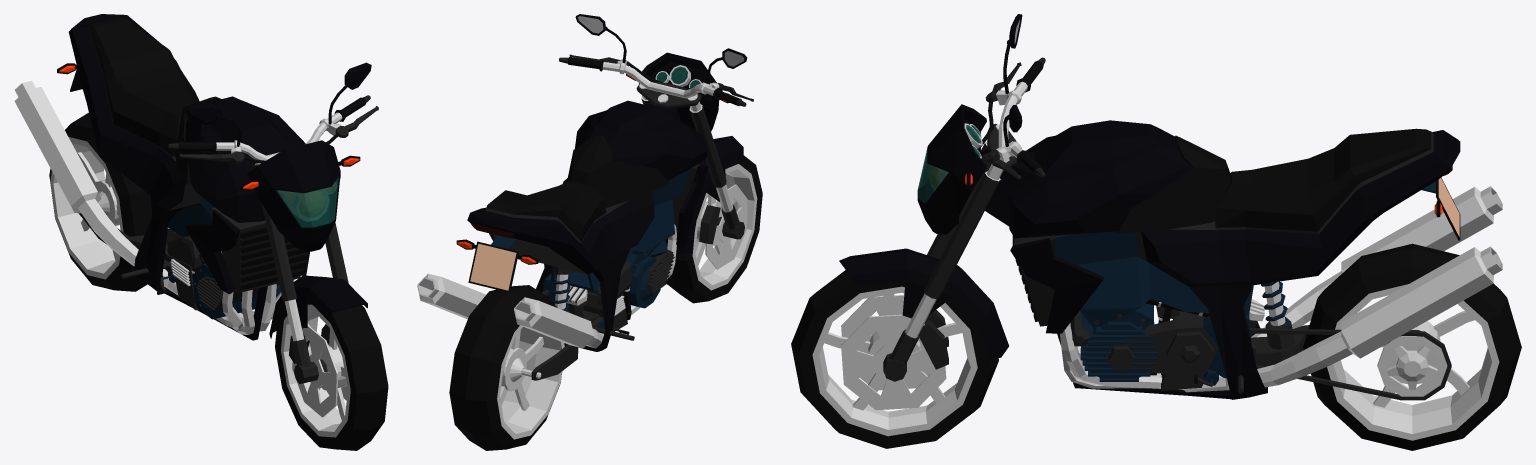
File: Motorcycle_06.FBX
3 renders of one model, left to right at view 1: azimuth 30°, elevation 25°; view 2: azimuth 150°, elevation 25°; view 3: azimuth 270°, elevation 25°, orthographic. The views are drawn at different scales.
Visible parts, largest first — view 1: Motorcycle_06, wheel_f, wheel_b, head, motor, exhaust_r, steering, handlebars, mudguard, brakes_f, mirror_r, headLights (+3 smaller); view 2: Motorcycle_06, wheel_b, motor, wheel_f, steering, exhaust_r, handlebars, brakes_f, head, licensePlate, exhaust_l, suspension_b (+4 smaller); view 3: Motorcycle_06, wheel_b, motor, wheel_f, exhaust_l, brakes_f, mudguard, head, steering, exhaust_r, handlebars, suspension_b (+2 smaller).
Boxes of the visible parts, box(x1,y1,x2,y2) form: Motorcycle_06: box(68, 14, 309, 340); wheel_f: box(275, 298, 388, 450); wheel_b: box(49, 112, 152, 291); head: box(247, 140, 340, 251); motor: box(157, 204, 294, 334); exhaust_r: box(14, 80, 178, 295); steering: box(252, 163, 348, 383); handlebars: box(168, 95, 378, 163); mudguard: box(269, 275, 367, 338); brakes_f: box(289, 324, 347, 417); mirror_r: box(186, 102, 241, 146); headLights: box(285, 183, 335, 217); Motorcycle_06: box(467, 100, 708, 351); wheel_b: box(449, 285, 565, 450); motor: box(543, 199, 676, 334); wheel_f: box(665, 155, 762, 303); steering: box(636, 81, 744, 239); exhaust_r: box(514, 297, 603, 348); handlebars: box(559, 54, 753, 106); brakes_f: box(695, 184, 747, 269); head: box(639, 52, 719, 131); licensePlate: box(468, 241, 518, 292); exhaust_l: box(417, 273, 485, 319); suspension_b: box(521, 266, 599, 380); Motorcycle_06: box(985, 120, 1460, 399); wheel_b: box(1303, 243, 1521, 450); motor: box(1060, 256, 1264, 390); wheel_f: box(791, 270, 998, 448); exhaust_l: box(1183, 246, 1502, 392); brakes_f: box(841, 295, 948, 410); mudguard: box(839, 248, 1008, 359); head: box(917, 104, 986, 234); steering: box(883, 123, 1018, 381); exhaust_r: box(1251, 186, 1502, 337); handlebars: box(978, 57, 1045, 179); suspension_b: box(1253, 281, 1309, 366).
Size of the model in its own units: 9.53 by 14.56 by 25.28.
